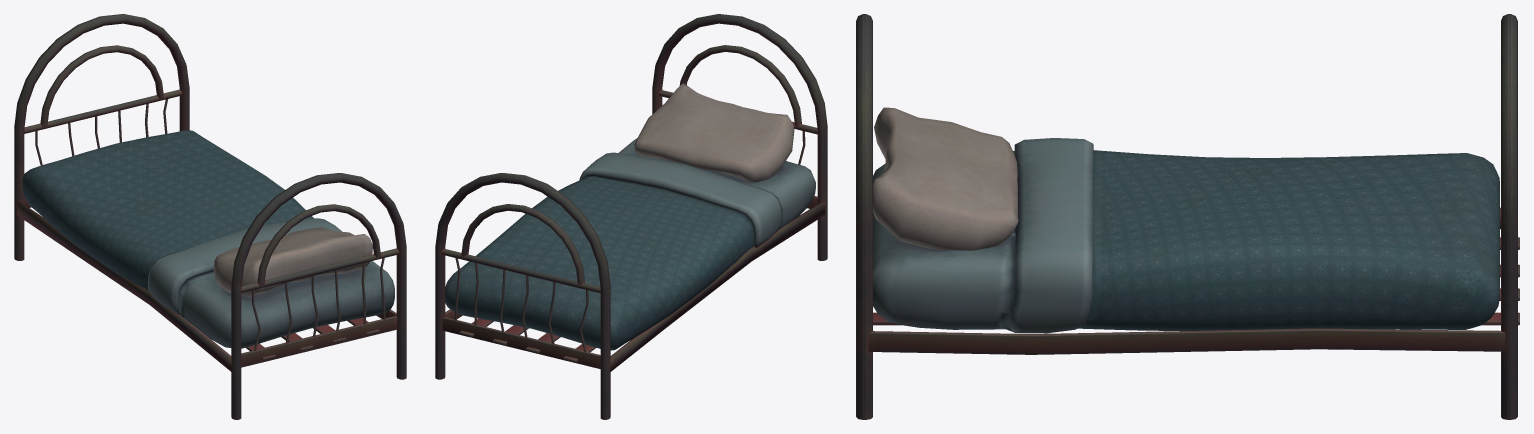
3 views of the same model, side by side, from view 1: azimuth 30°, elevation 25°; view 2: azimuth 150°, elevation 25°; view 3: azimuth 270°, elevation 25° (orthographic). The views are drawn at different scales.
Parts seen in each view (by area): view 1: Circle.000_CUCircle.004, Circle.001_CUCircle.002, Cube.156_Cube.244, Circle.002_CUCircle.000; view 2: Circle.000_CUCircle.004, Circle.001_CUCircle.002, Cube.156_Cube.244, Circle.002_CUCircle.000; view 3: Circle.000_CUCircle.004, Cube.156_Cube.244, Circle.002_CUCircle.000, Circle.001_CUCircle.002.
Part boxes in pixels (<box>): Circle.000_CUCircle.004: <box>22,130,394,348</box>; Circle.001_CUCircle.002: <box>14,14,406,419</box>; Cube.156_Cube.244: <box>213,227,372,296</box>; Circle.002_CUCircle.000: <box>24,196,397,367</box>; Circle.000_CUCircle.004: <box>445,138,815,350</box>; Circle.001_CUCircle.002: <box>435,14,827,419</box>; Cube.156_Cube.244: <box>634,83,794,182</box>; Circle.002_CUCircle.000: <box>442,196,817,368</box>; Circle.000_CUCircle.004: <box>873,138,1499,333</box>; Cube.156_Cube.244: <box>873,107,1018,250</box>; Circle.002_CUCircle.000: <box>868,237,1519,354</box>; Circle.001_CUCircle.002: <box>856,14,1517,419</box>.
Size of the model in its own units: 0.8548 by 0.9826 by 1.79.
4 materials, 4 textured.
